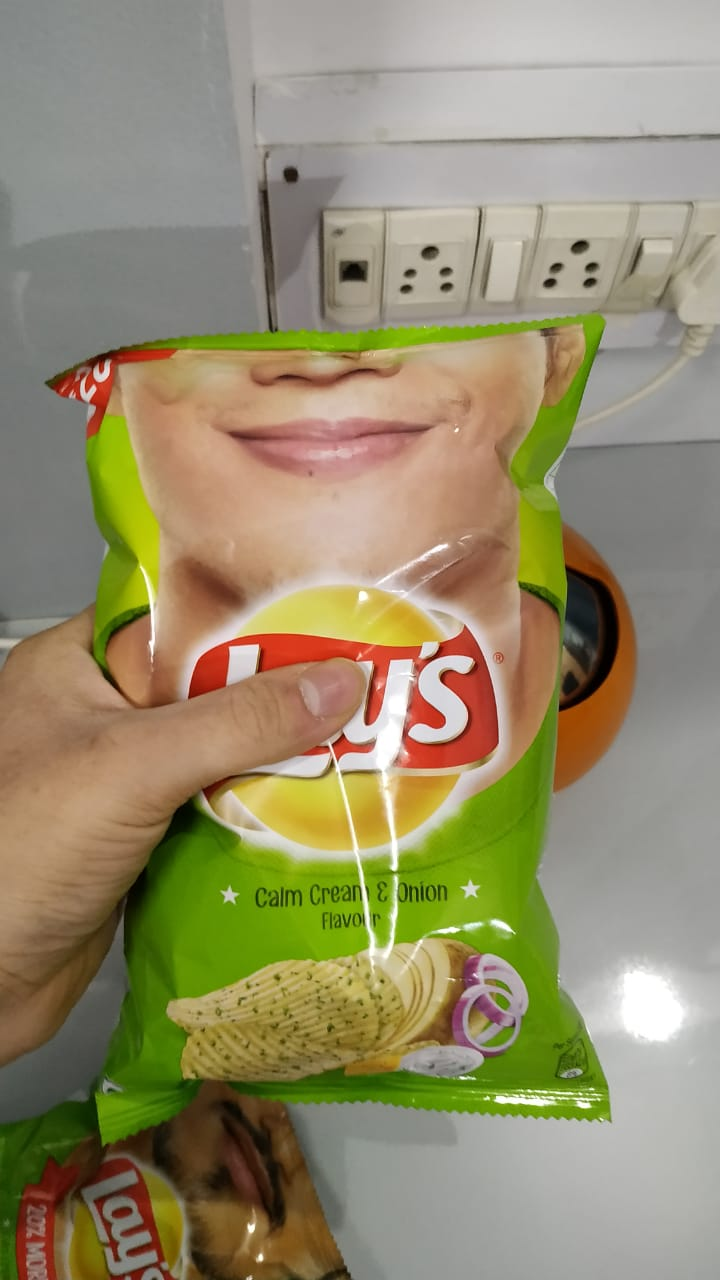lays chips: (56, 310, 615, 1119), (1, 1084, 366, 1280)
